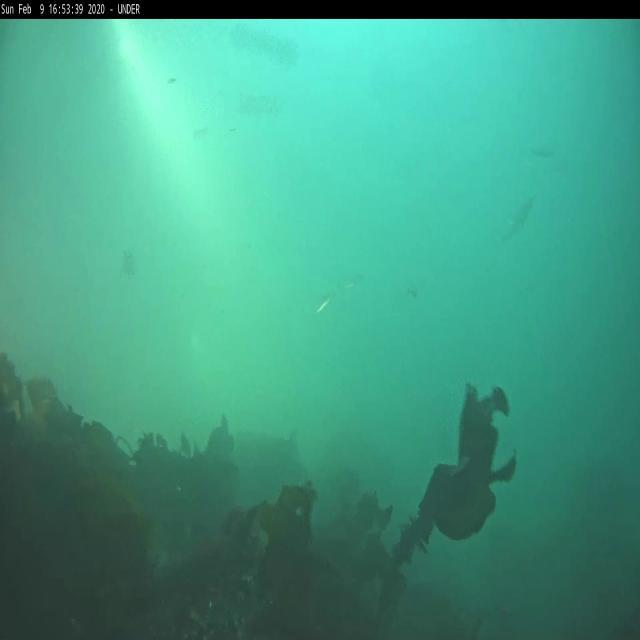fish: (340, 269, 360, 299), (316, 292, 334, 315)
